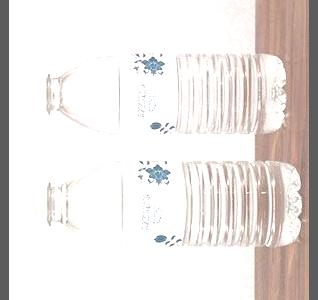bottle: (13, 152, 309, 253), (14, 49, 294, 140)
